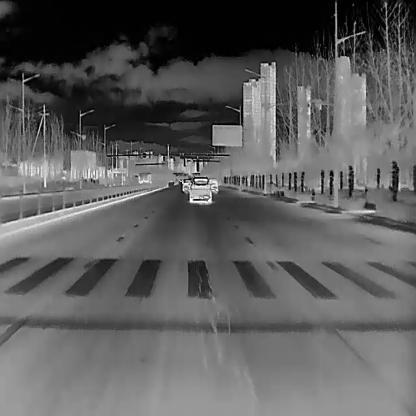car: (189, 176, 211, 203), (138, 171, 151, 185), (181, 177, 192, 192), (209, 176, 217, 192)
